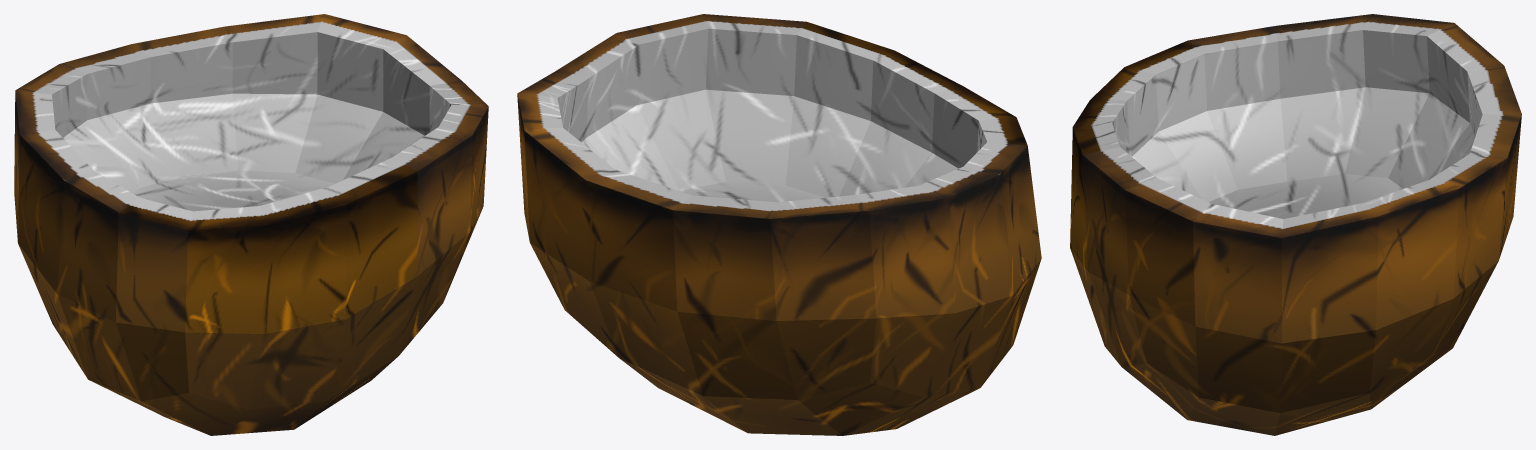
File: UnityKokussnusshalb.fbx
3 renders of one model, left to right at view 1: azimuth 30°, elevation 25°; view 2: azimuth 150°, elevation 25°; view 3: azimuth 270°, elevation 25°, orthographic. The views are drawn at different scales.
Visible parts, largest first — view 1: Cube; view 2: Cube; view 3: Cube.
Boxes of the visible parts, left/top/right/bottom form: Cube: left=14, top=14, right=488, bottom=435; Cube: left=517, top=14, right=1041, bottom=435; Cube: left=1070, top=14, right=1521, bottom=435.
Size of the model in its own units: 11.62 by 7.89 by 10.28.
